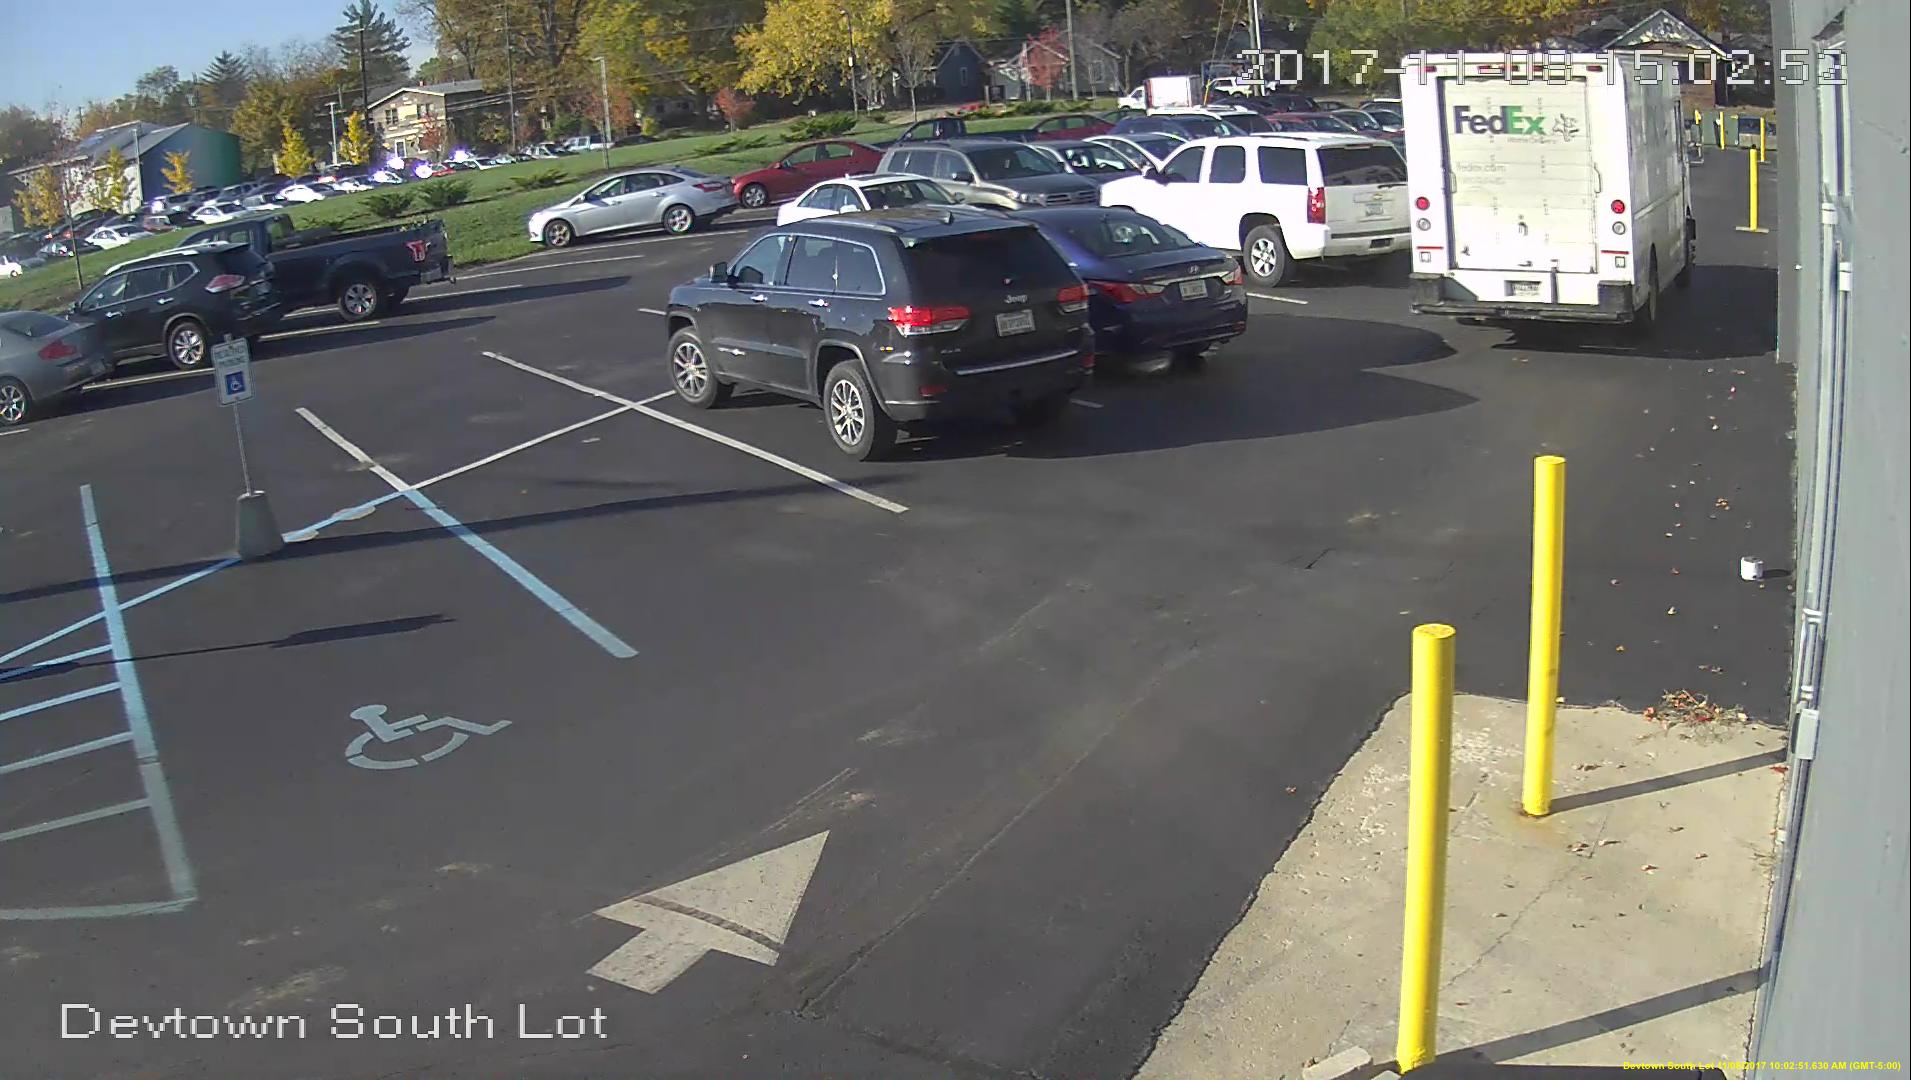fedex_truck: (1393, 49, 1704, 344)
